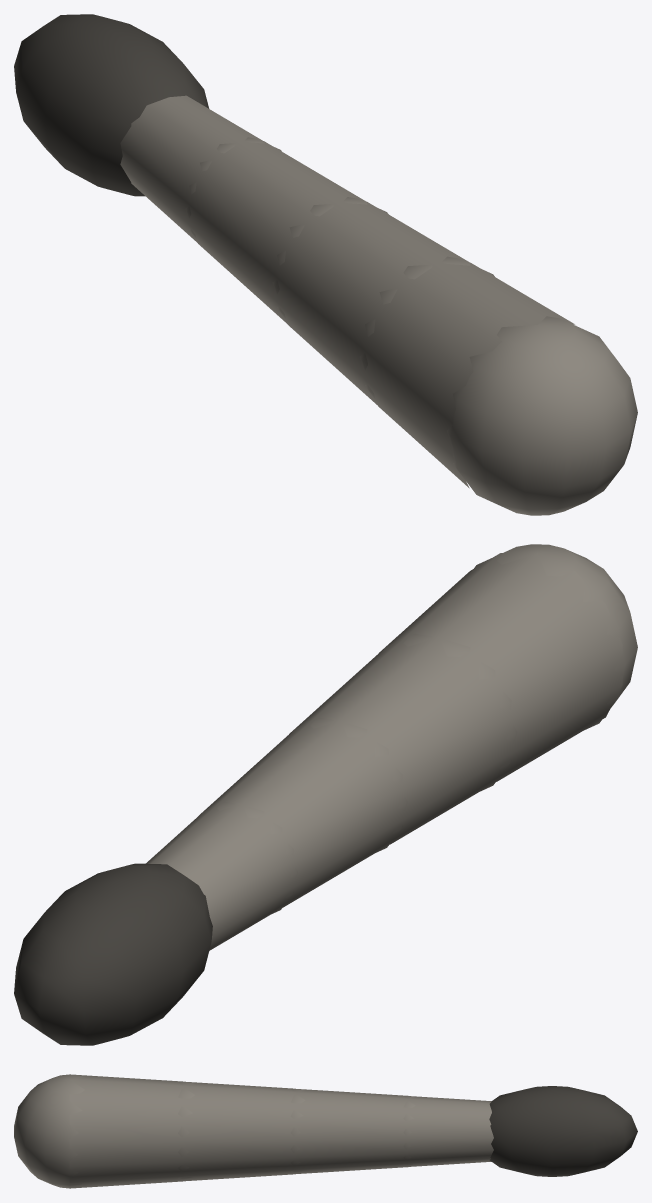
Rendered from rhino_tail.glb.
3 views of the same model, one above another, from view 1: azimuth 30°, elevation 25°; view 2: azimuth 150°, elevation 25°; view 3: azimuth 270°, elevation 25° (orthographic). The views are drawn at different scales.
Visible parts, largest first — view 1: rhino_tail_seg01, rhino_tail_seg04, rhino_tail_seg02, rhino_tail_seg03; view 2: rhino_tail_seg04, rhino_tail_seg01, rhino_tail_seg02, rhino_tail_seg03; view 3: rhino_tail_seg01, rhino_tail_seg04, rhino_tail_seg02, rhino_tail_seg03.
Part boxes in pixels (x1=…): rhino_tail_seg01: x1=363, y1=262, x2=637, y2=515; rhino_tail_seg04: x1=14, y1=14, x2=281, y2=242; rhino_tail_seg02: x1=275, y1=201, x2=494, y2=404; rhino_tail_seg03: x1=187, y1=141, x2=388, y2=323; rhino_tail_seg04: x1=14, y1=801, x2=297, y2=1045; rhino_tail_seg01: x1=379, y1=544, x2=637, y2=781; rhino_tail_seg02: x1=289, y1=633, x2=517, y2=844; rhino_tail_seg03: x1=199, y1=717, x2=407, y2=907; rhino_tail_seg01: x1=14, y1=1074, x2=183, y2=1188; rhino_tail_seg04: x1=403, y1=1086, x2=637, y2=1176; rhino_tail_seg02: x1=178, y1=1081, x2=295, y2=1181; rhino_tail_seg03: x1=290, y1=1088, x2=408, y2=1173.
Bounding box in the file's own units: 0.1379 × 0.1379 × 0.7536.
Materials: 1 (1 with a texture image).
